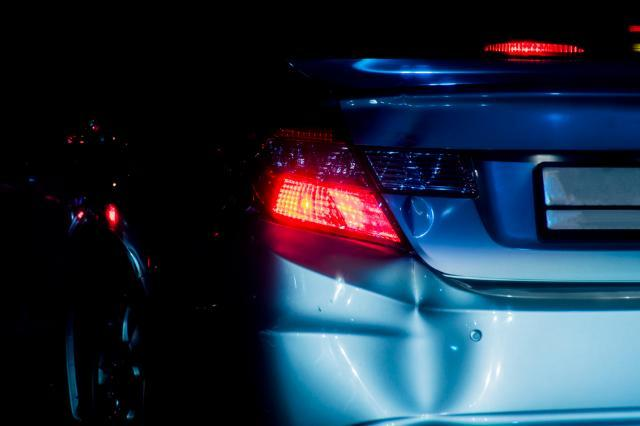dent: (338, 263, 500, 417), (401, 197, 433, 238)
